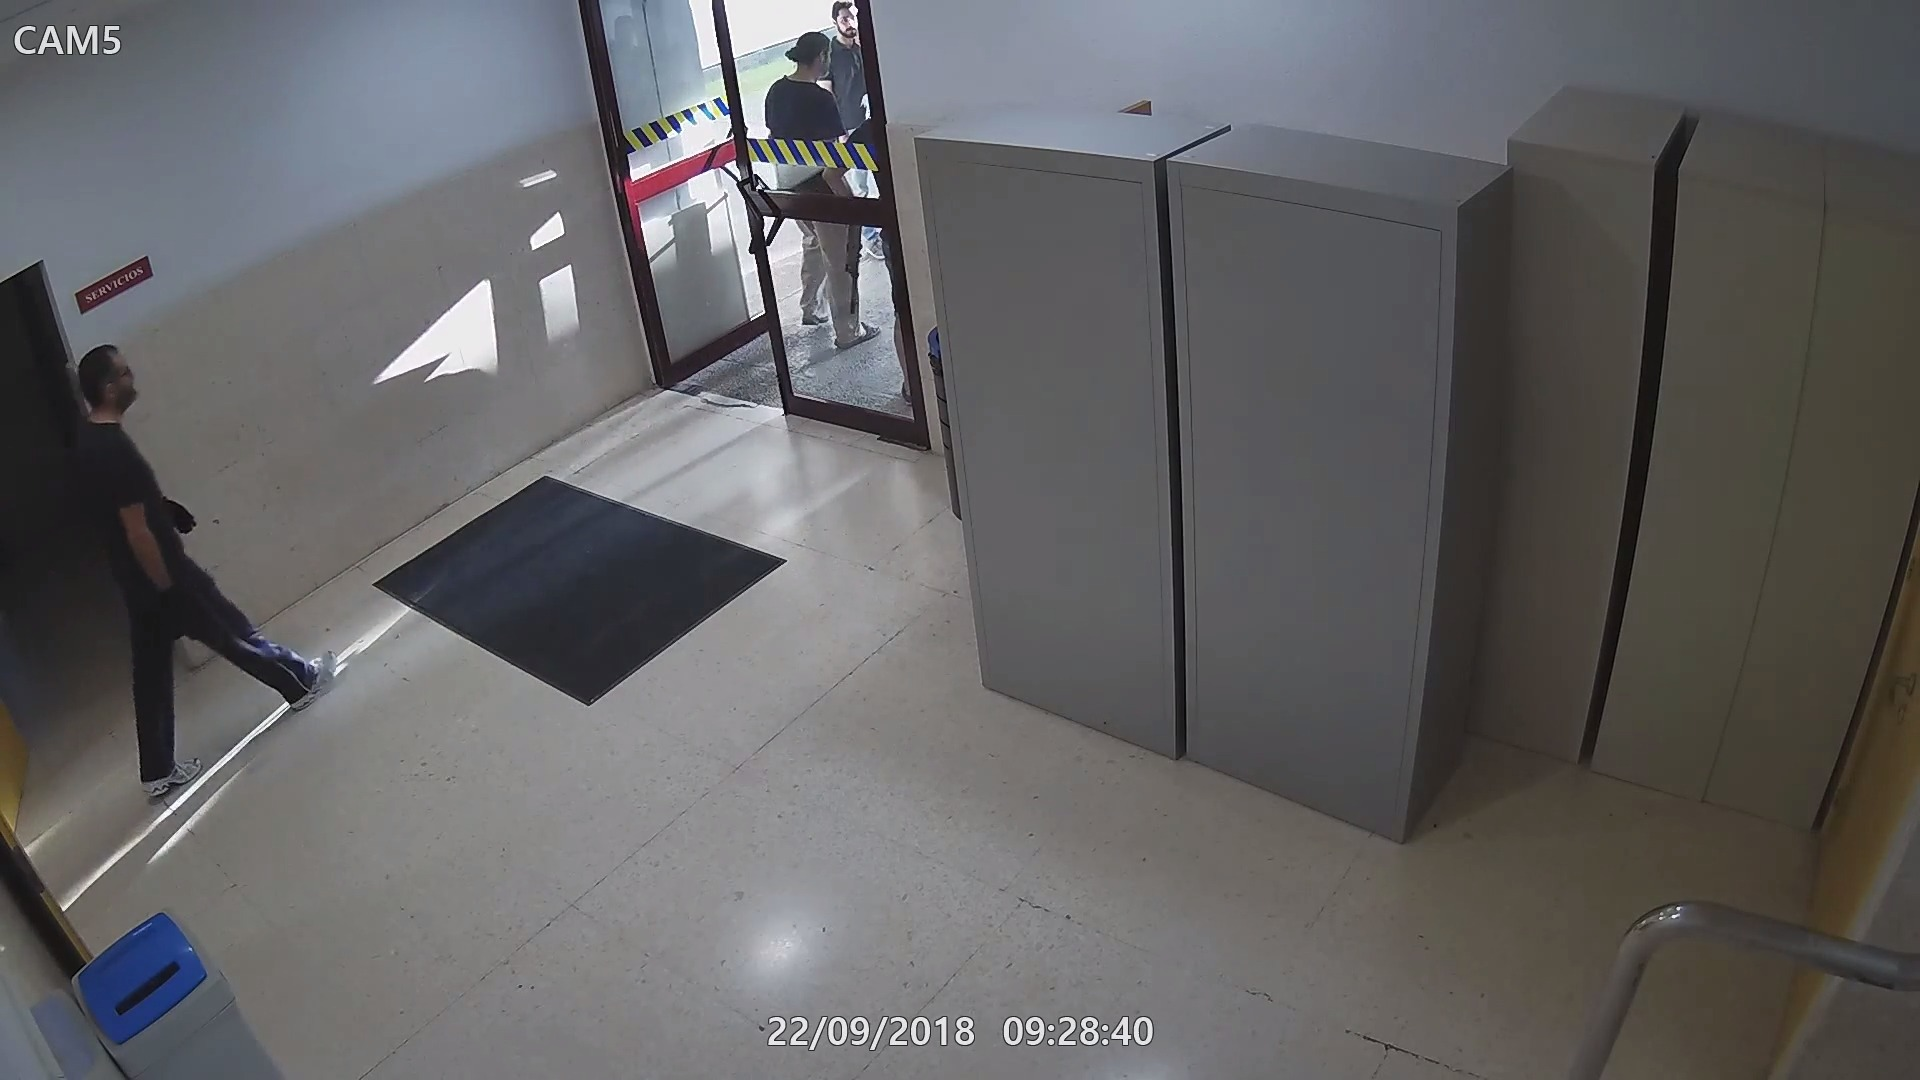Short_rifle: (840, 227, 866, 310)
